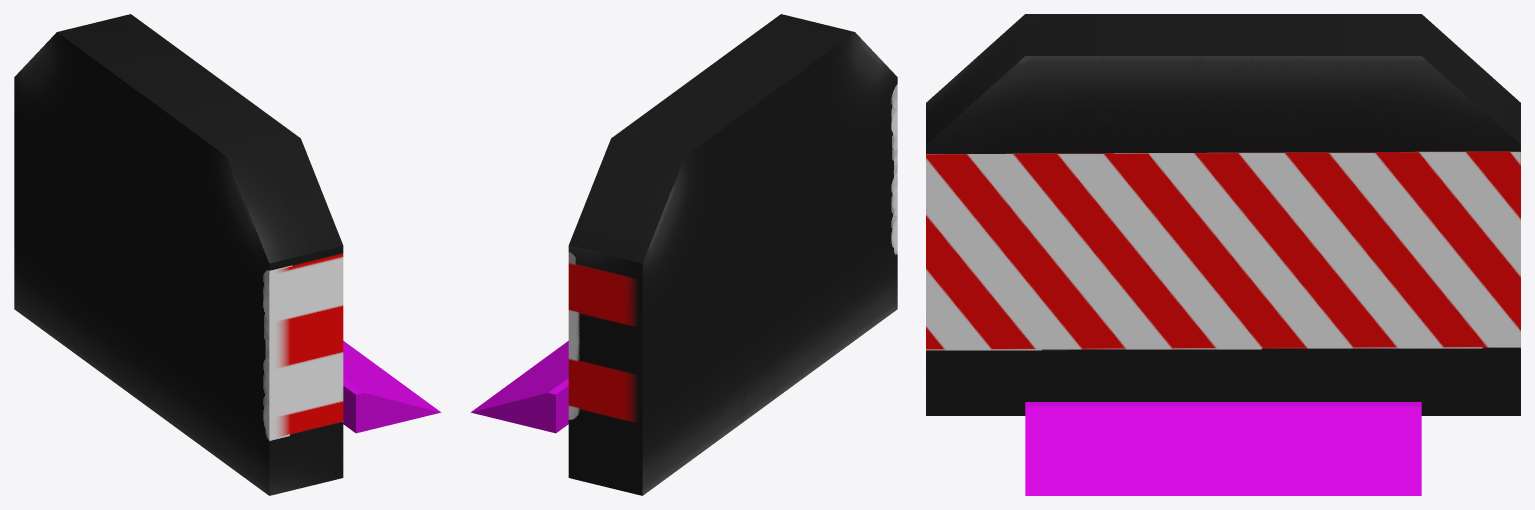
File: Muro.fbx
The picture shows the model from 3 angles, left to right: view 1: azimuth 30°, elevation 25°; view 2: azimuth 150°, elevation 25°; view 3: azimuth 270°, elevation 25°; orthographic projection. The views are drawn at different scales.
Parts seen in each view (by area): view 1: MURO_Rampa; view 2: MURO_Rampa; view 3: MURO_Rampa.
Part boxes in pixels (left/top/right/bottom): MURO_Rampa: left=14, top=14, right=441, bottom=495; MURO_Rampa: left=470, top=14, right=897, bottom=495; MURO_Rampa: left=926, top=14, right=1520, bottom=495.
Bounding box in the file's own units: 5.83 × 8.01 × 12.
Materials: 2 (1 with a texture image).
